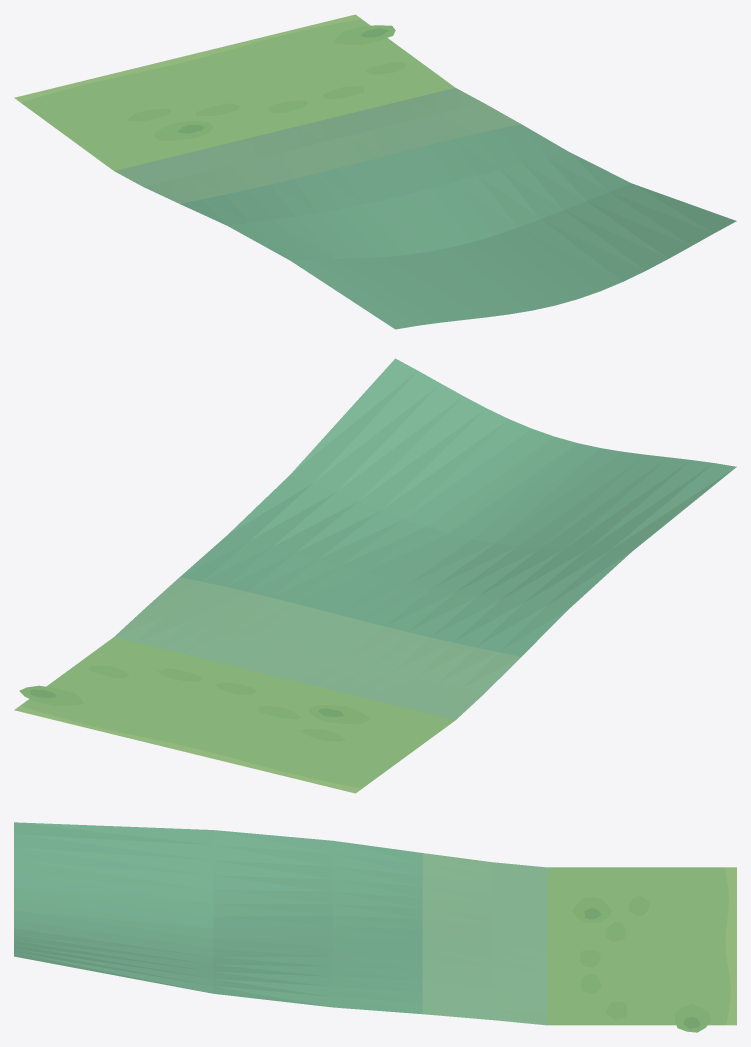
File: Prairie_4.fbx
3 renders of one model, top to bottom at view 1: azimuth 30°, elevation 25°; view 2: azimuth 150°, elevation 25°; view 3: azimuth 270°, elevation 25°, orthographic. The views are drawn at different scales.
Visible parts, largest first — view 1: Prairie_4; view 2: Prairie_4; view 3: Prairie_4.
Boxes of the visible parts, x1=… form: Prairie_4: x1=14, y1=14, x2=736, y2=329; Prairie_4: x1=14, y1=358, x2=736, y2=793; Prairie_4: x1=14, y1=822, x2=736, y2=1032.
Size of the model in its own units: 7849 by 1524 by 14504.
1 material, 1 textured.
